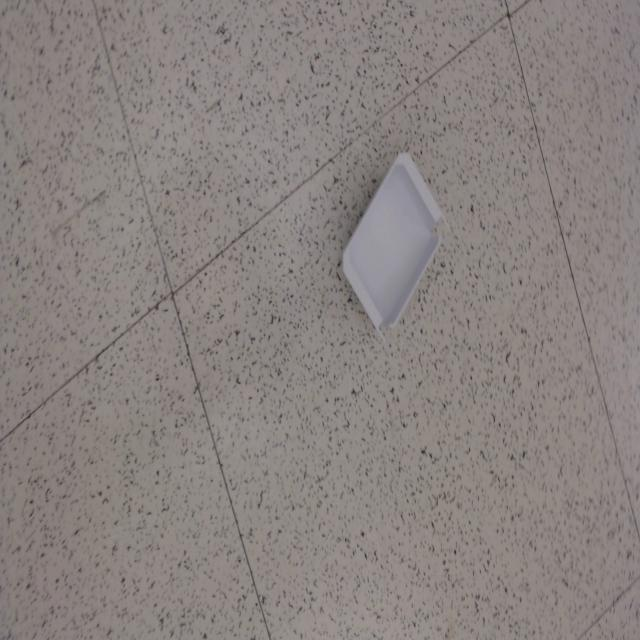wbox: (340, 149, 451, 338)
